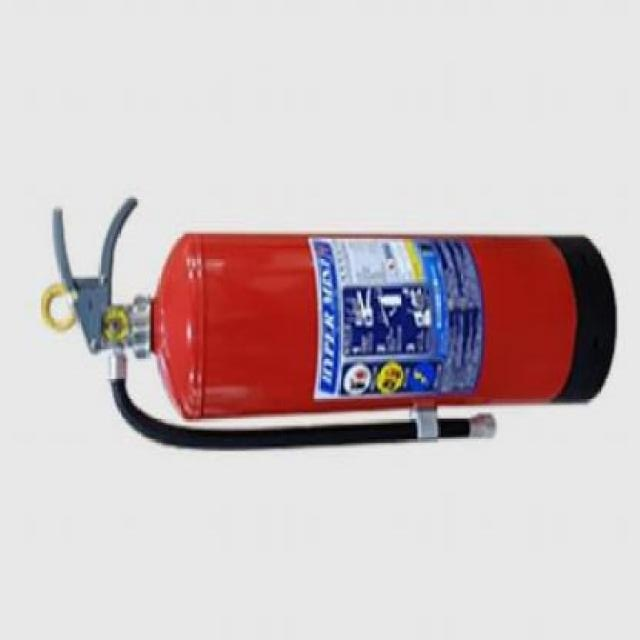fire extinguisher: (39, 198, 618, 454)
